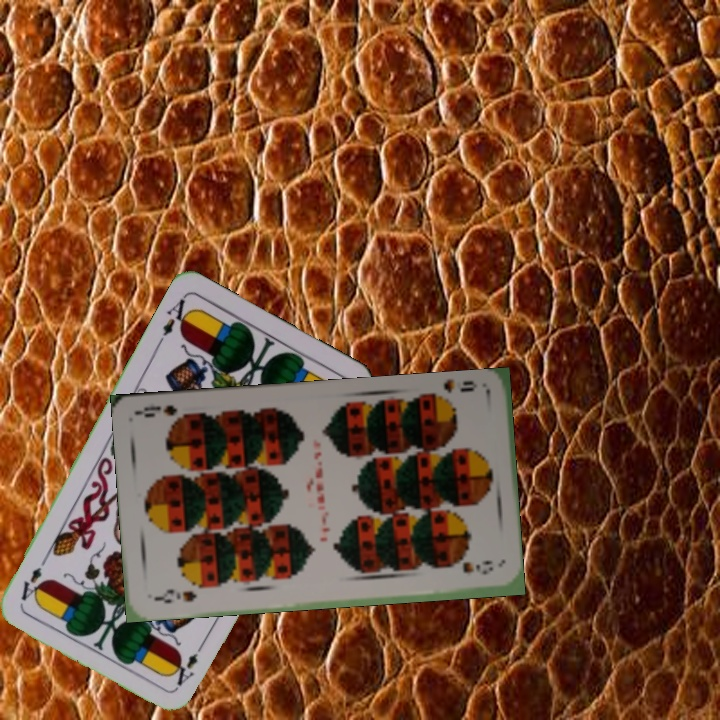EA: (172, 636, 209, 689), (159, 293, 195, 339)
S9: (426, 376, 479, 406), (149, 585, 199, 606)
